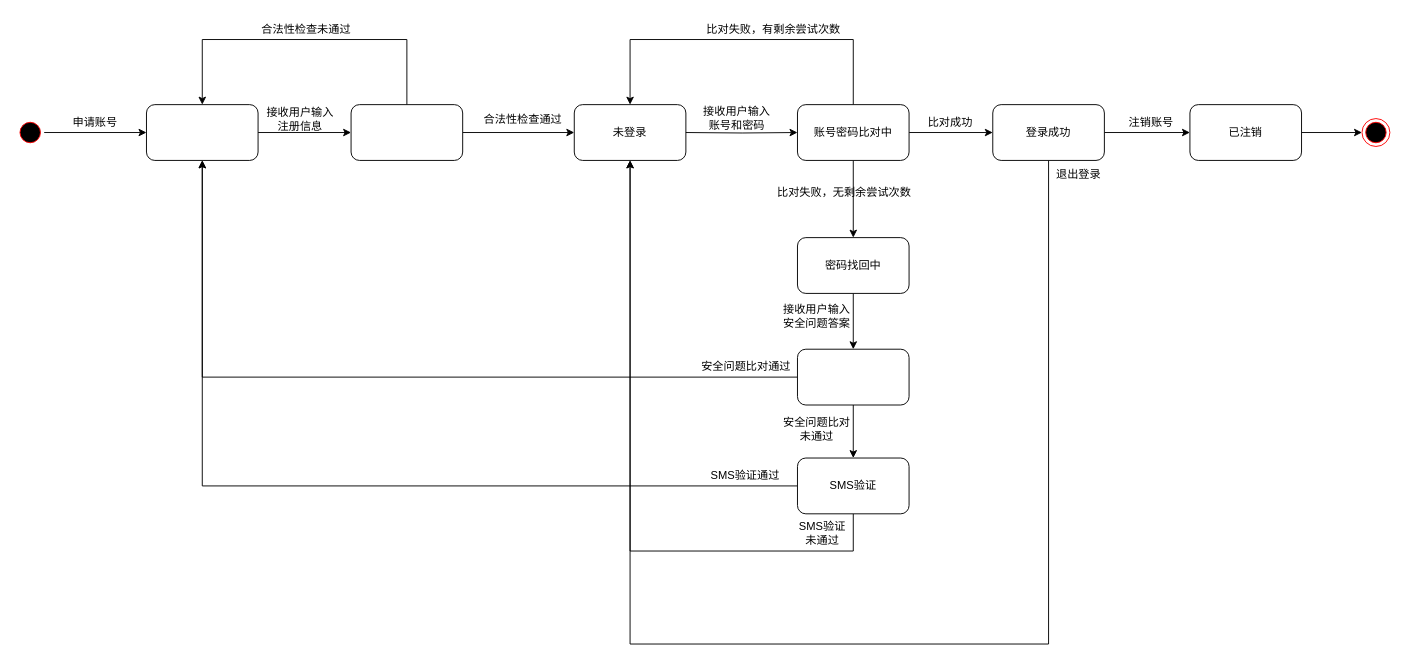
Image size: 1406x668. Some labels were removed from this diagram. The centre of each missing label's shape, as x and y in pixels:
安全问题比对中: (853,376)
待审核: (406,132)
注册中: (202,132)
